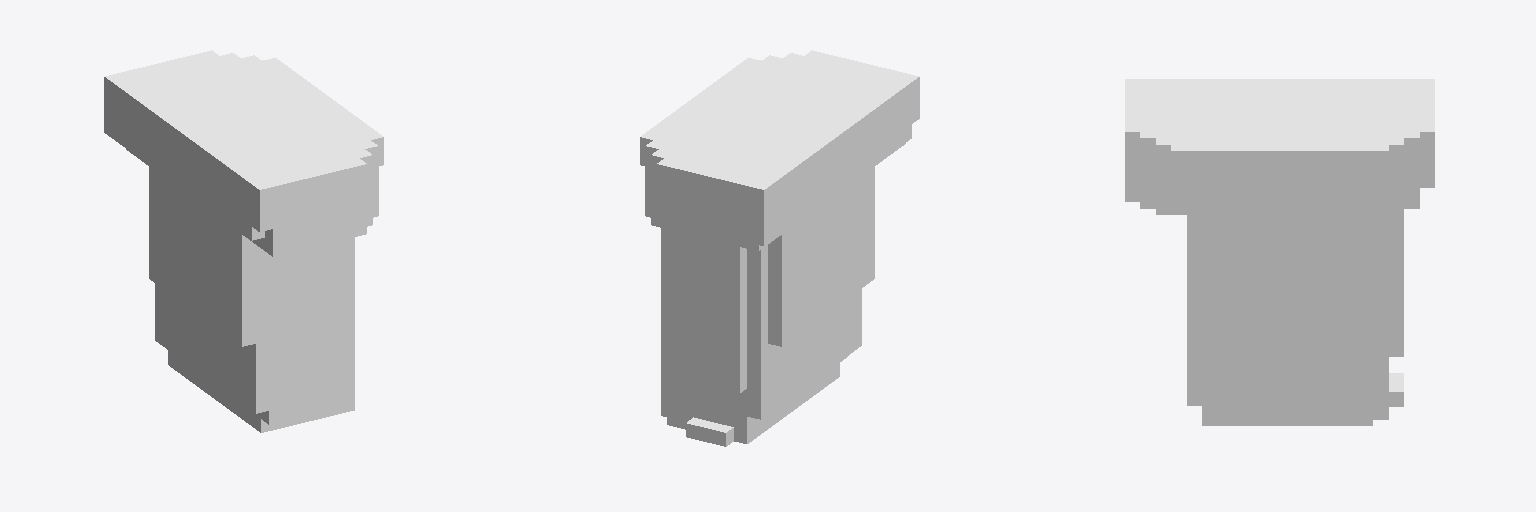
Rendered from Character-4-RlegUp.obj.
The picture shows the model from 3 angles: view 1: azimuth 30°, elevation 25°; view 2: azimuth 150°, elevation 25°; view 3: azimuth 270°, elevation 25°; orthographic projection.
Visible parts, largest first — view 1: RlegUp; view 2: RlegUp; view 3: RlegUp.
Part boxes in pixels (bbox=[...]): RlegUp: bbox=[104, 50, 383, 432]; RlegUp: bbox=[640, 50, 919, 446]; RlegUp: bbox=[1125, 79, 1434, 425].
Size of the model in its own units: 1.1 by 2 by 2.